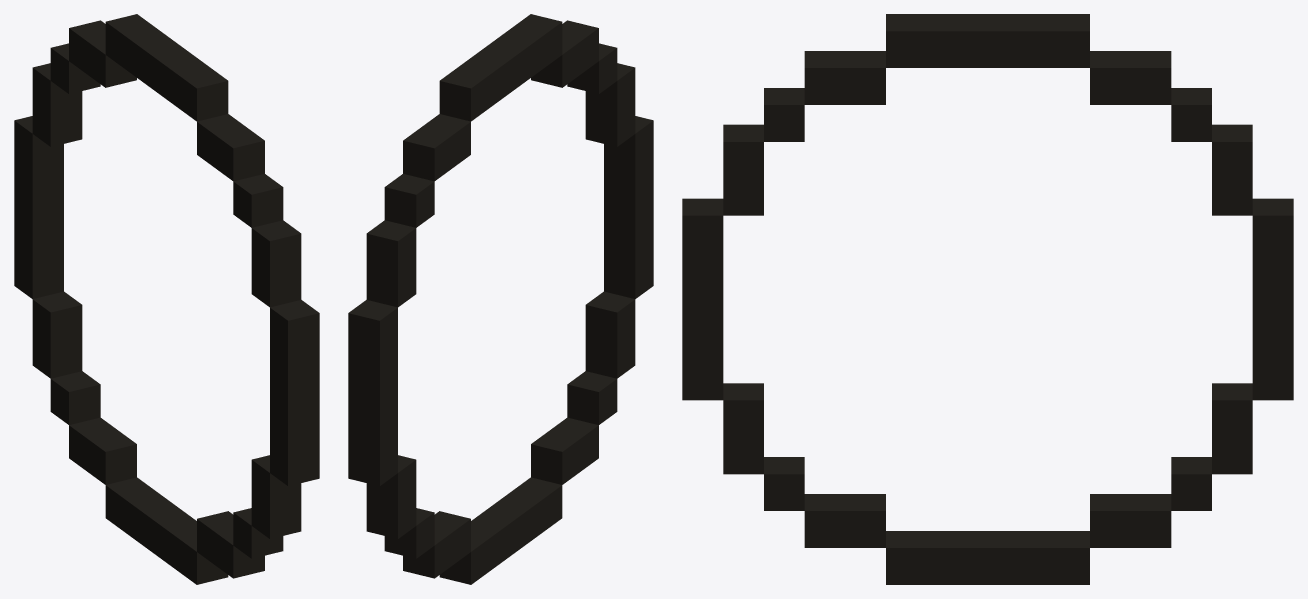
Rendered from Medieval Assets-6-Decoration - Barrel - Ring.obj.
The picture shows the model from 3 angles, left to right: view 1: azimuth 30°, elevation 25°; view 2: azimuth 150°, elevation 25°; view 3: azimuth 270°, elevation 25°; orthographic projection. The views are drawn at different scales.
Visible parts, largest first — view 1: Decoration - Barrel - Ring; view 2: Decoration - Barrel - Ring; view 3: Decoration - Barrel - Ring.
Boxes of the visible parts, x1,y1,x2,y2 form: Decoration - Barrel - Ring: [14, 14, 319, 584]; Decoration - Barrel - Ring: [348, 14, 653, 584]; Decoration - Barrel - Ring: [682, 14, 1293, 584].
Bounding box in the file's own units: 0.1 × 1.5 × 1.5.
Materials: 1 (1 with a texture image).
